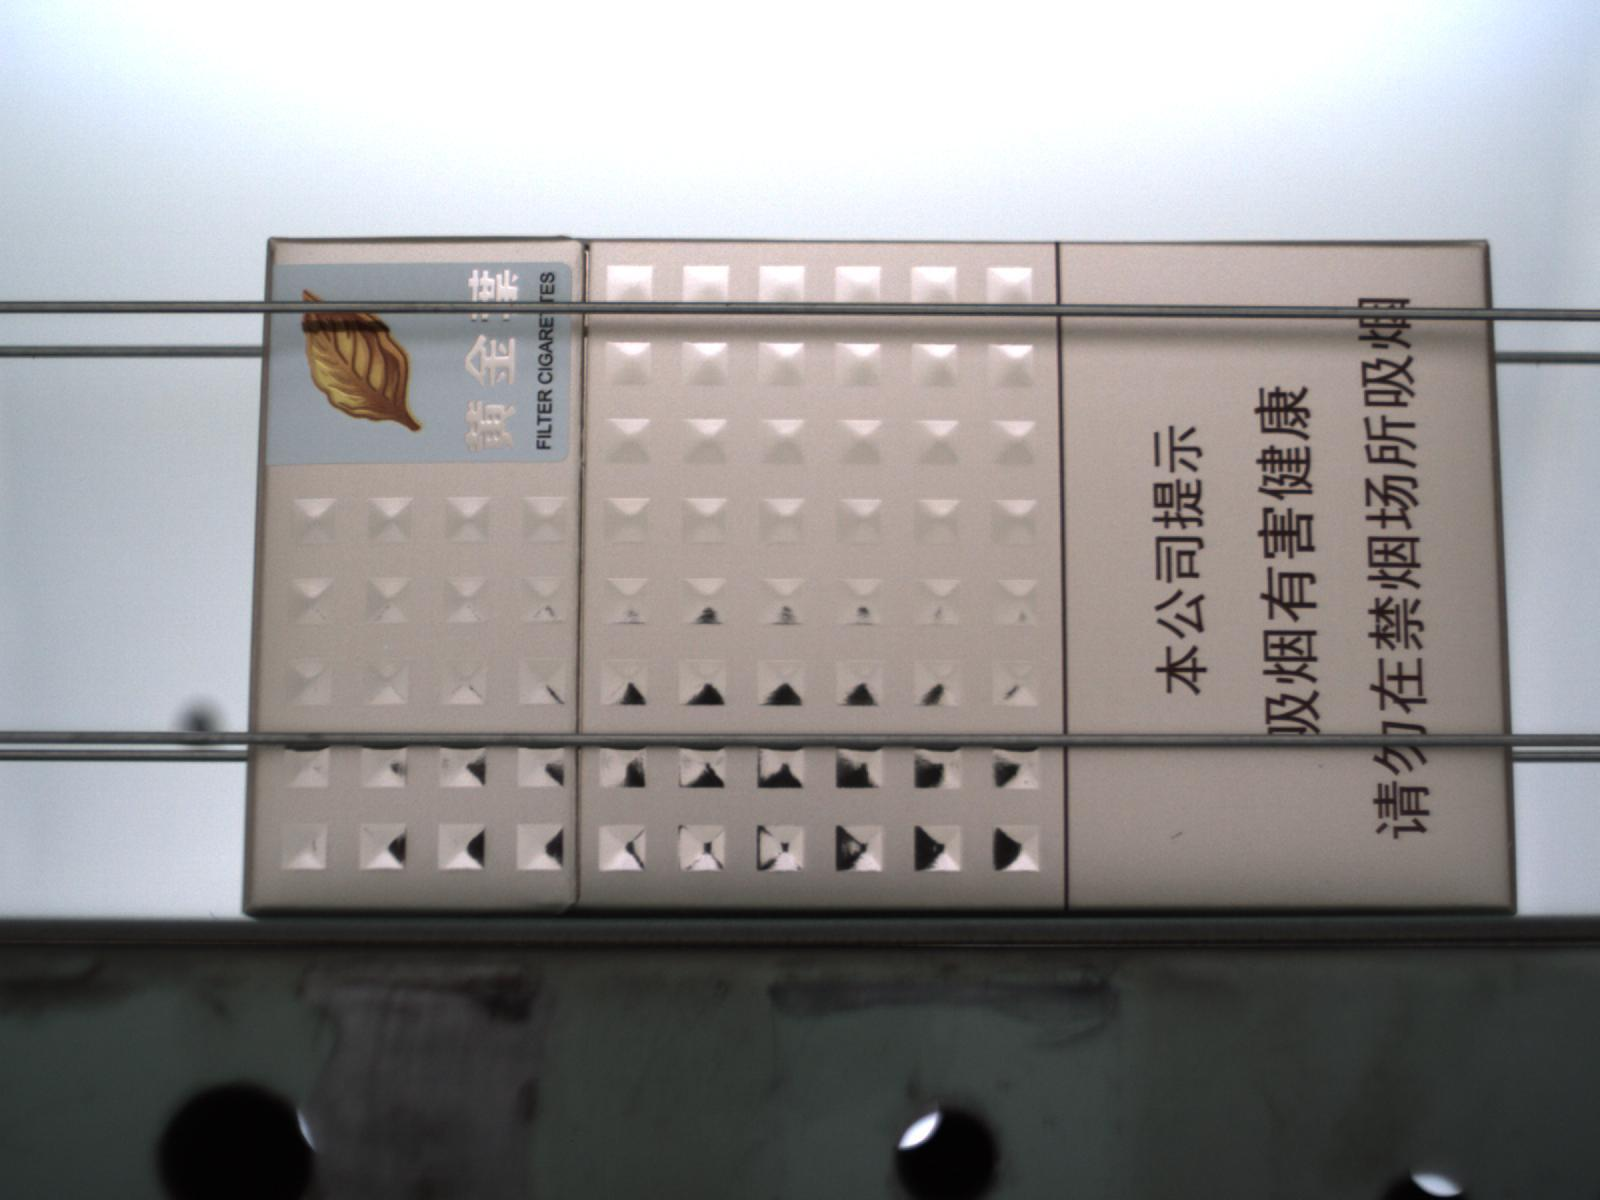dirtySpot: (1168, 827, 1188, 845), (1314, 759, 1330, 774)
